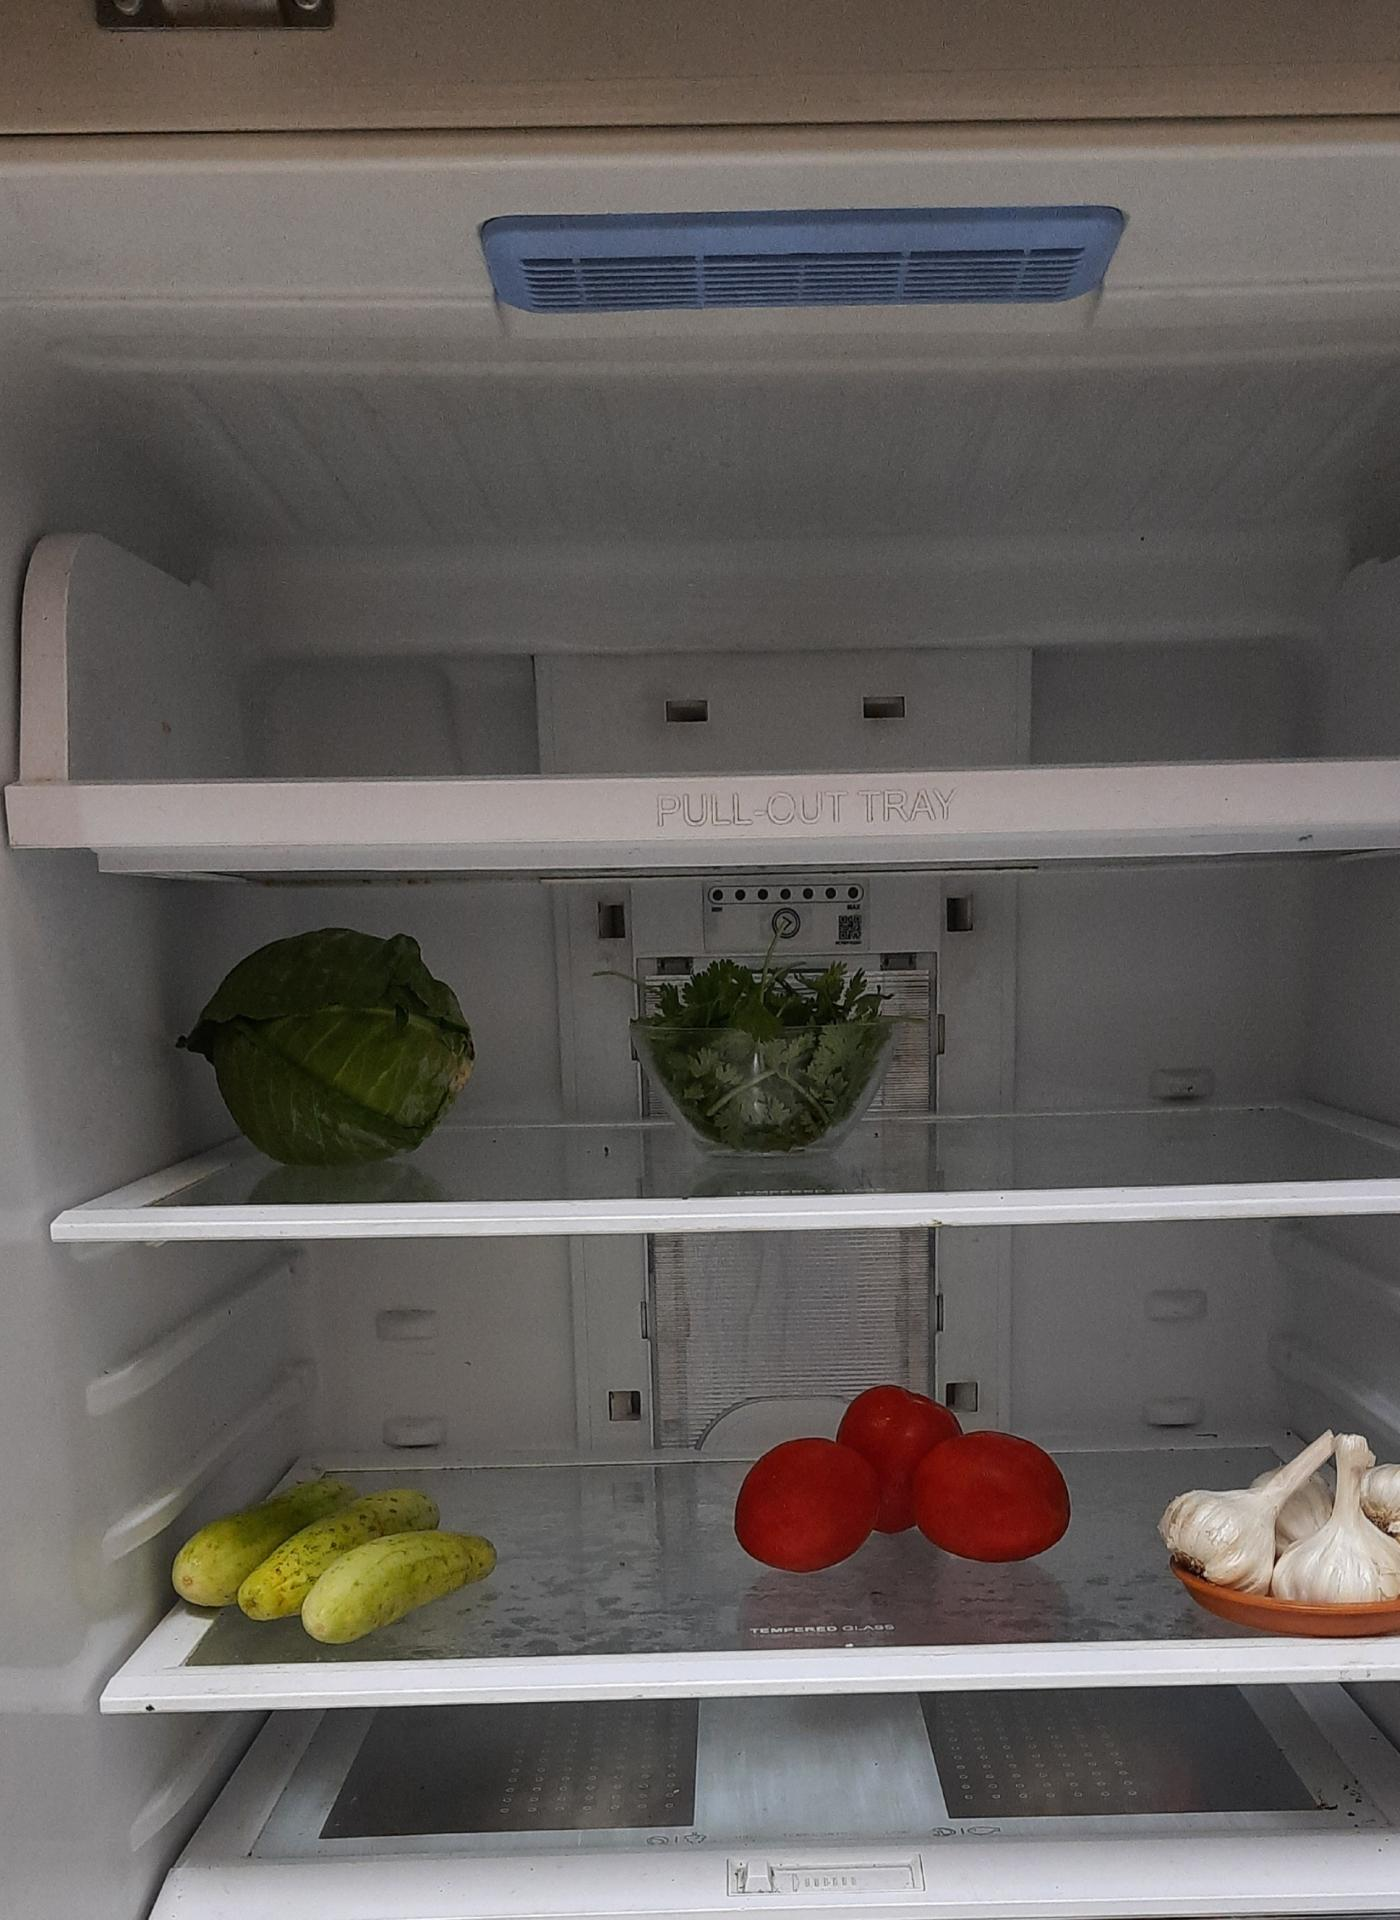cabbage: (189, 936, 476, 1176)
coriander: (640, 957, 893, 1152)
cucumber: (173, 1486, 496, 1647)
garlic: (1169, 1430, 1400, 1604)
tomato: (735, 1383, 1072, 1565)
